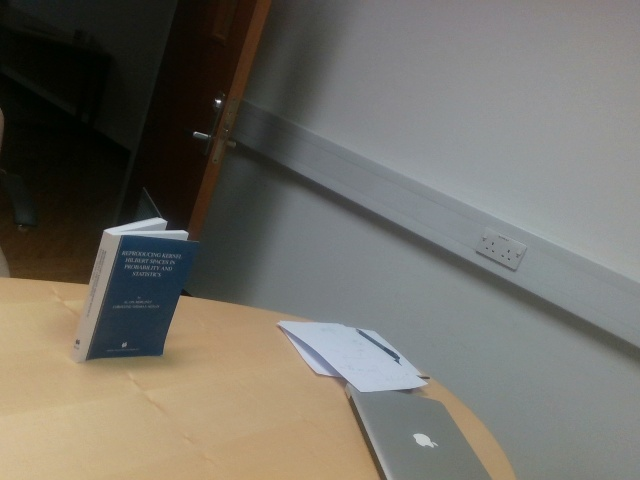book: (70, 217, 200, 362)
